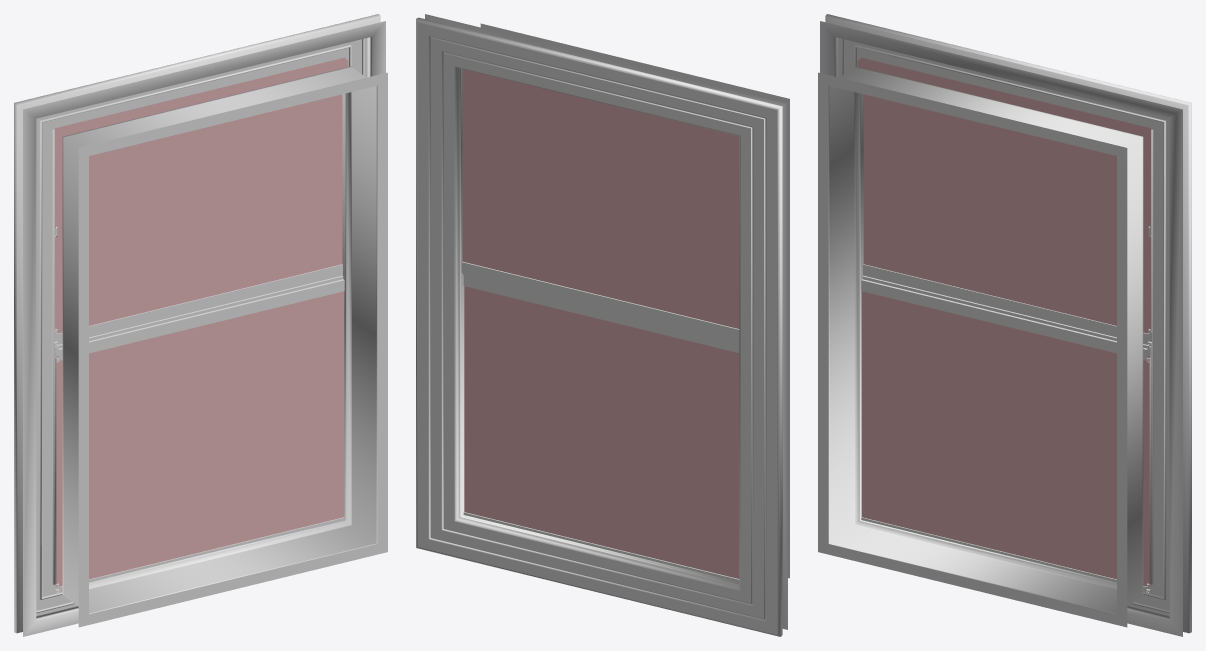
File: WindowGrilledSlider.fbx
3 renders of one model, left to right at view 1: azimuth 30°, elevation 25°; view 2: azimuth 150°, elevation 25°; view 3: azimuth 330°, elevation 25°, orthographic.
Parts seen in each view (by area): view 1: Window_LOD0, Slider; view 2: Window_LOD0, Slider; view 3: Window_LOD0, Slider.
Part boxes in pixels (x1,y1,x2,y2): Window_LOD0: (14, 14, 387, 636); Slider: (55, 275, 344, 592); Window_LOD0: (416, 14, 789, 636); Slider: (463, 275, 739, 581); Window_LOD0: (818, 14, 1191, 636); Slider: (861, 275, 1150, 592).
Size of what is drawn, in the model's own units: 273 by 379 by 49.03.
